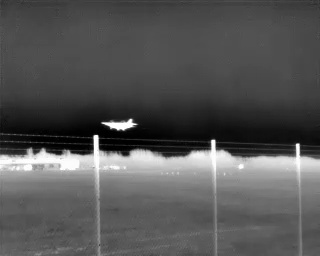AIRPLANE: (97, 115, 140, 133)
